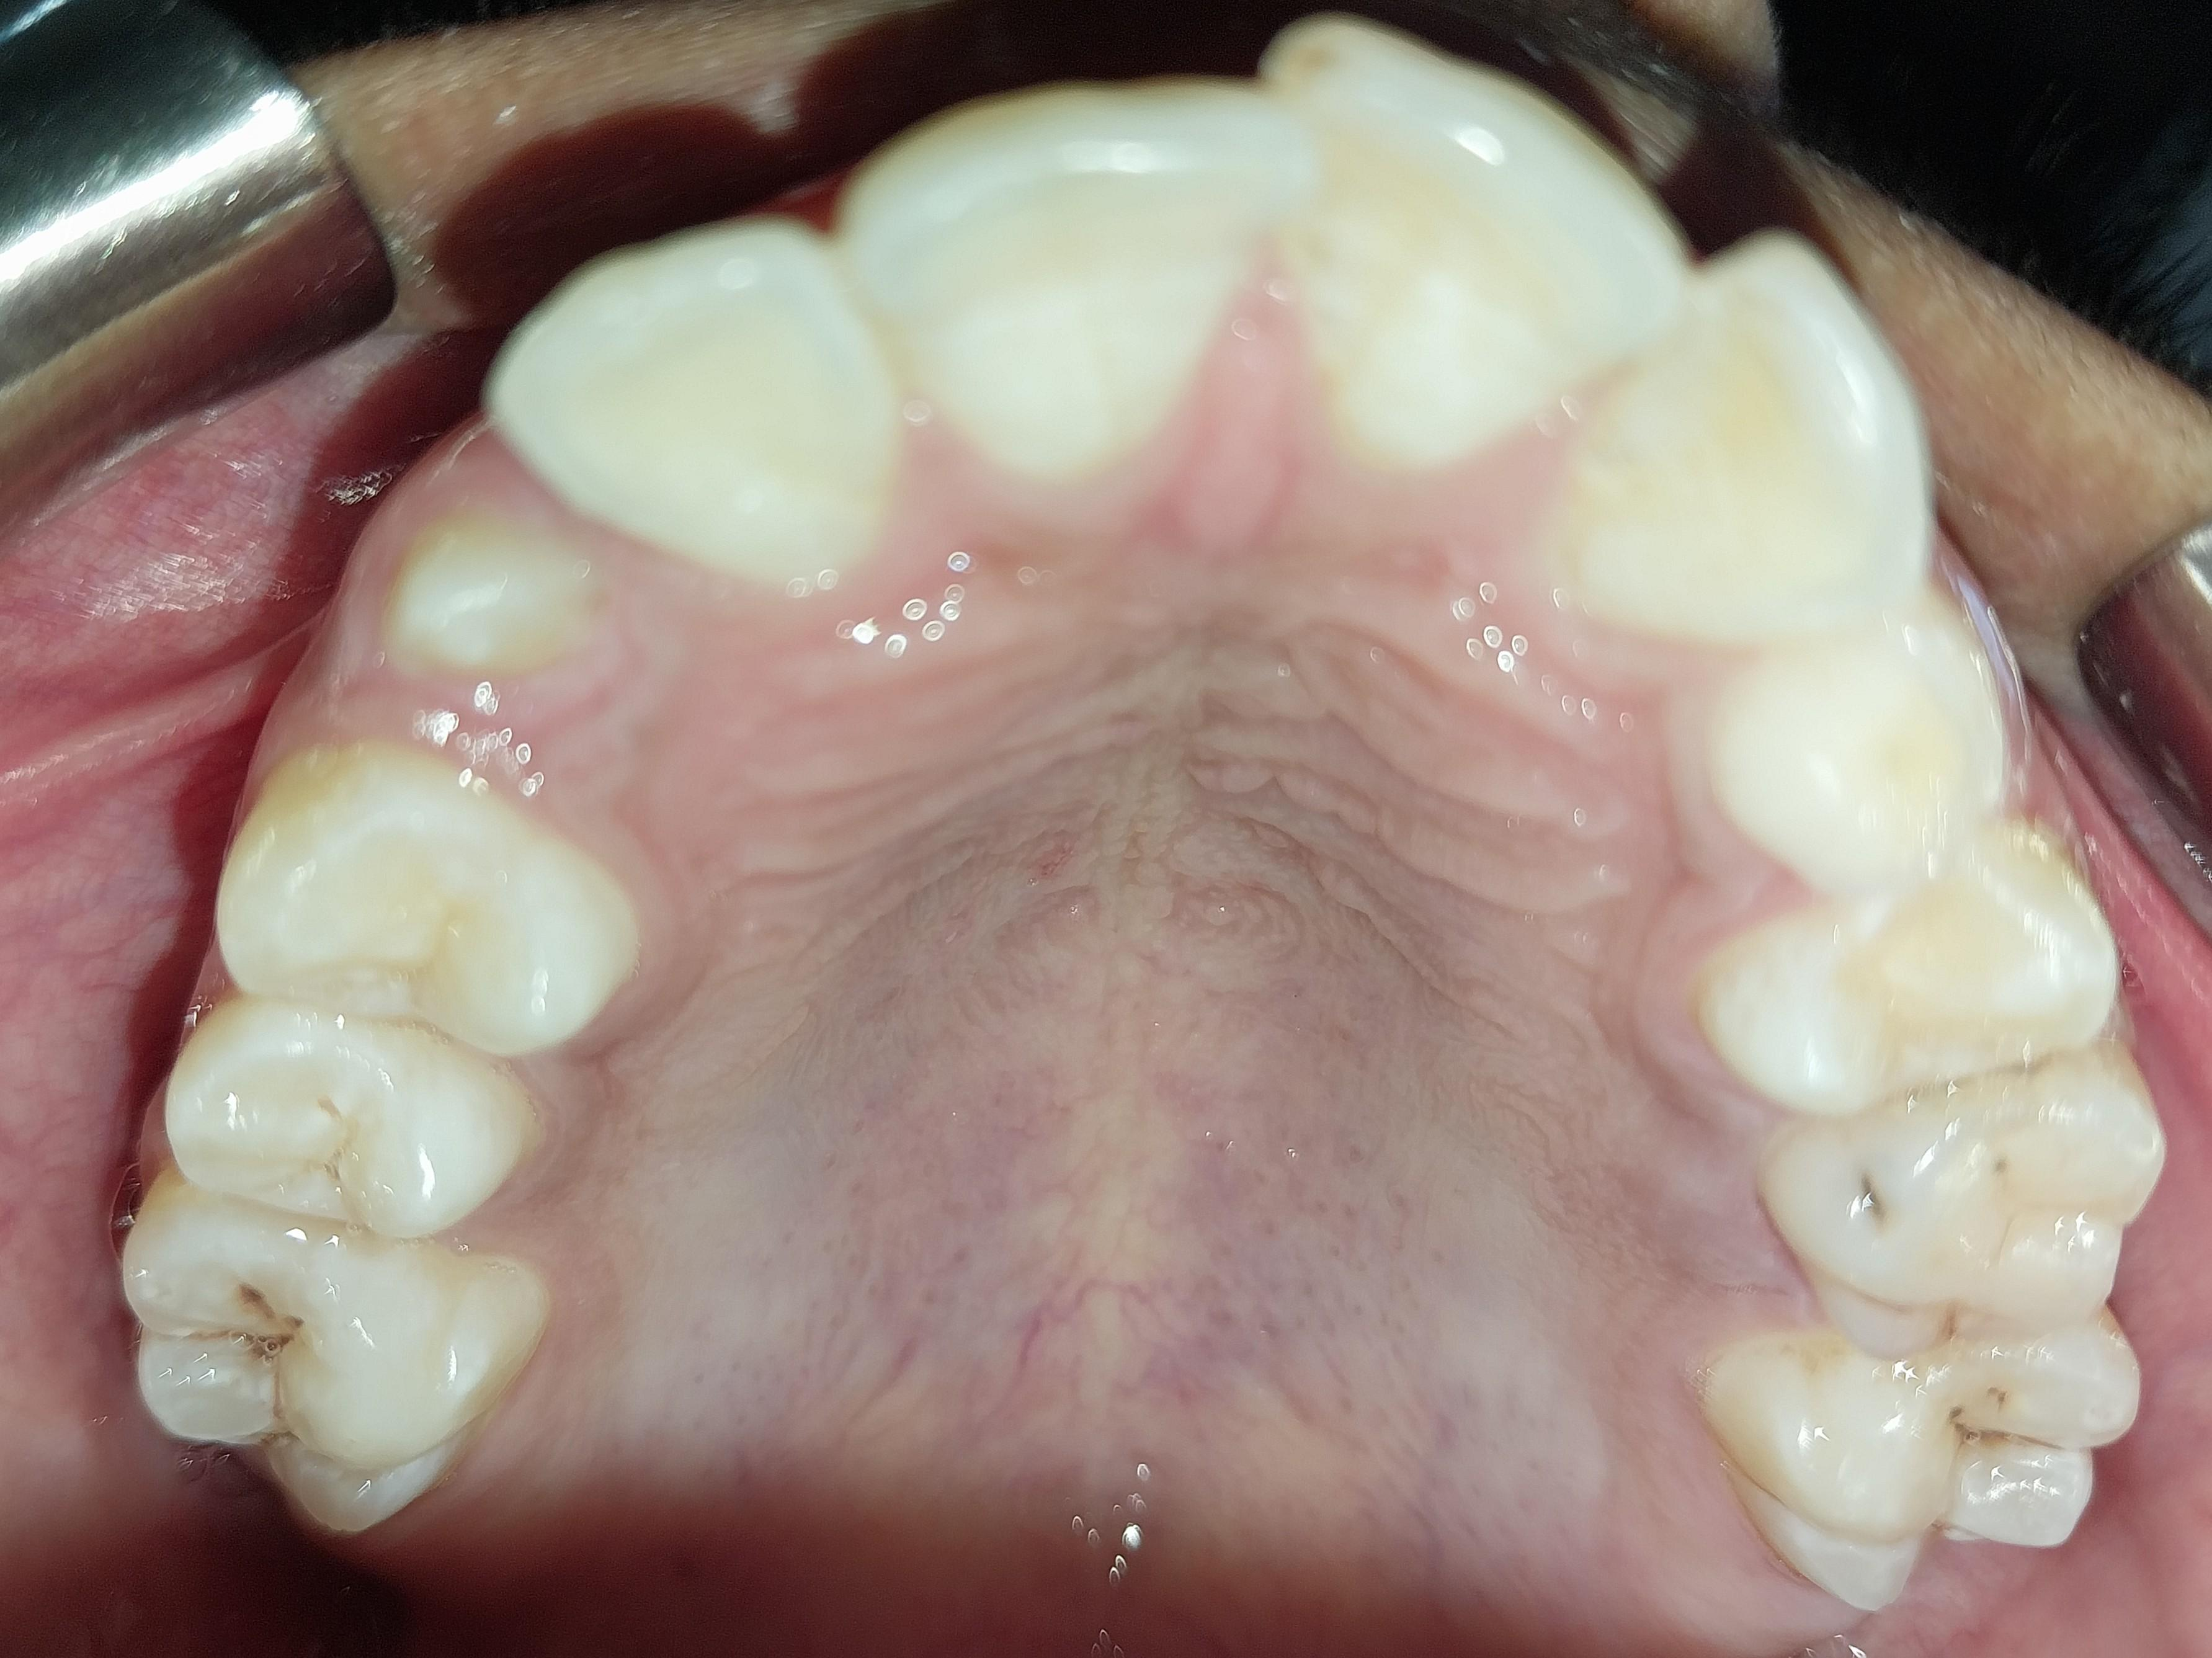D: (121, 1179, 521, 1539), (1701, 1323, 2139, 1590)
d: (1764, 1067, 2162, 1342)
